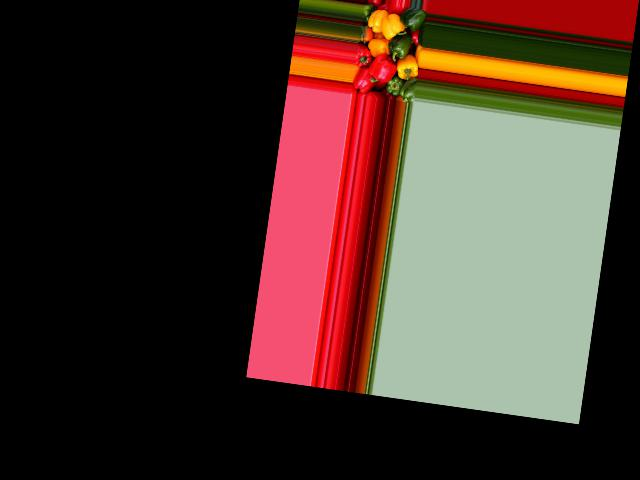bell_pepper: (361, 3, 374, 26)
